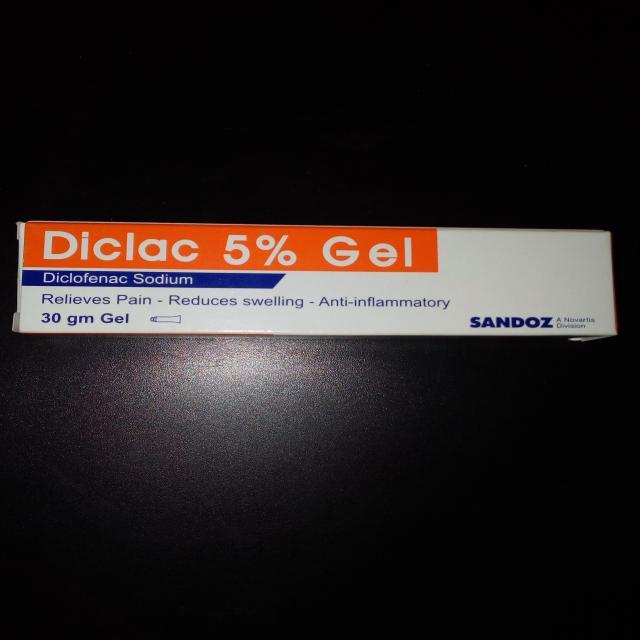Medicine Name: (38, 226, 214, 265)
